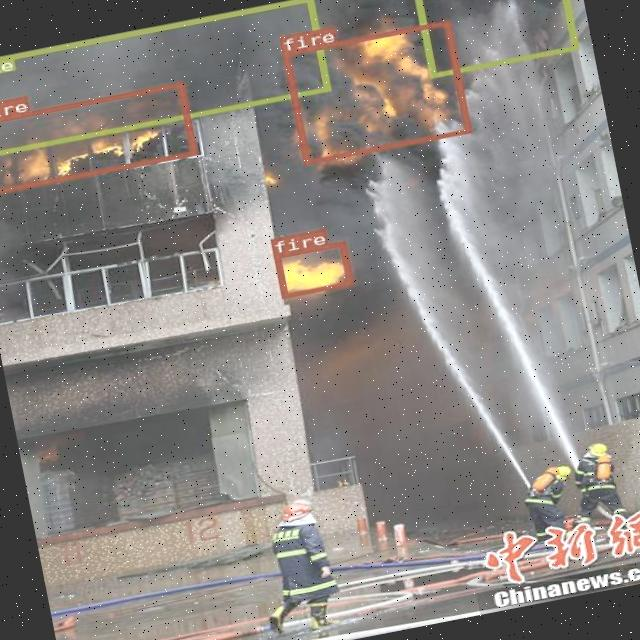fire: (282, 19, 470, 164), (0, 82, 195, 195), (272, 241, 353, 298)
smoke: (0, 0, 330, 161), (412, 0, 577, 78)
